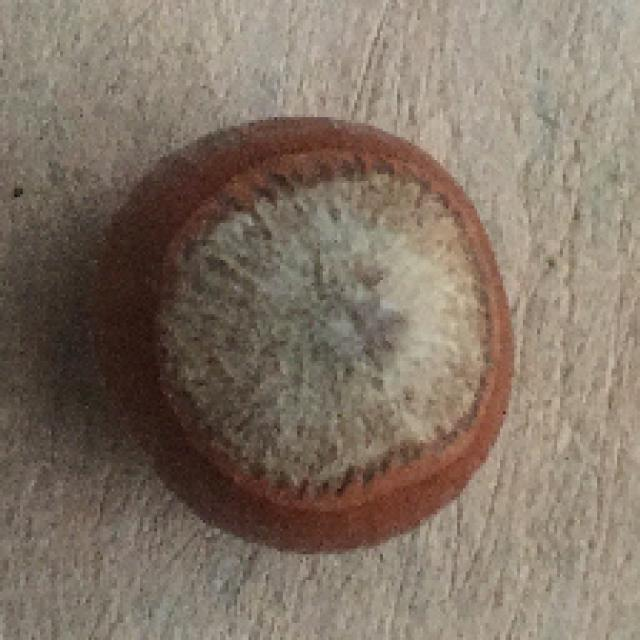qualityHazelnut: (89, 116, 518, 554)
